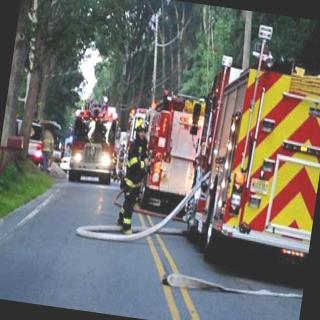Fire_truck: (170, 15, 320, 277), (114, 83, 208, 218), (64, 95, 125, 187)
